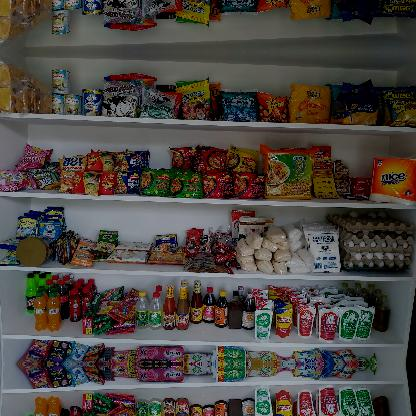Lady-s-Choice: (16, 235, 54, 266)
